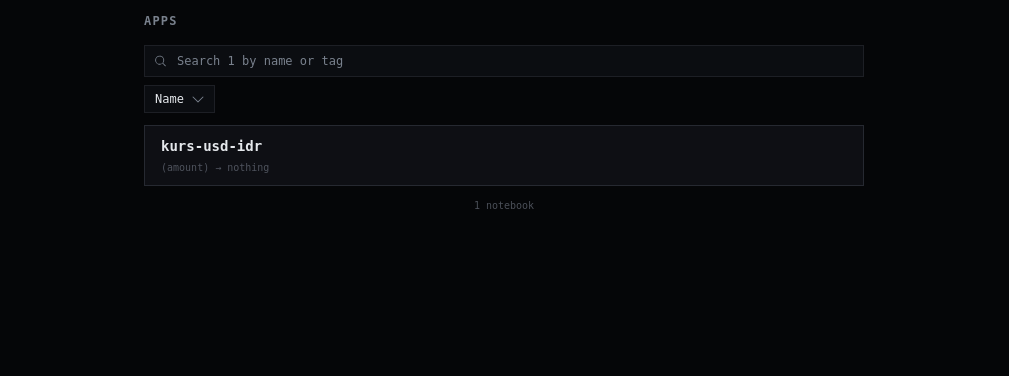
Test: an app that was redeployed while it was open › keeps the version being used, and says a new one exists
Click the text "kurs-usd-idr".
click(212, 146)  # box [161,136,262,156]
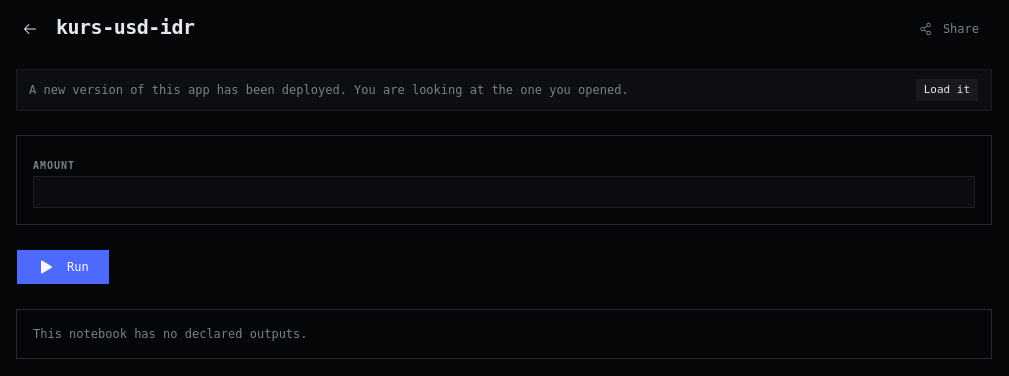
expect the number field labelled "amount" is shown: met, box [33,176,975,208]
expect the message is shown: met, box [16,69,992,111]
expect the message shows "new version": met, box [29,83,629,97]
Click the button "Load it".
click(947, 90)  # box [915,78,979,102]
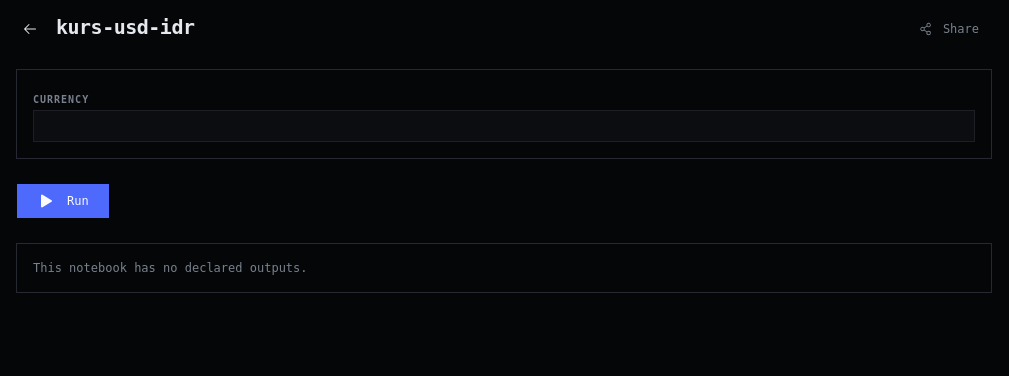
expect the field labelled "currency" is shown: met, box [33,110,975,142]
expect the message is gone: met
